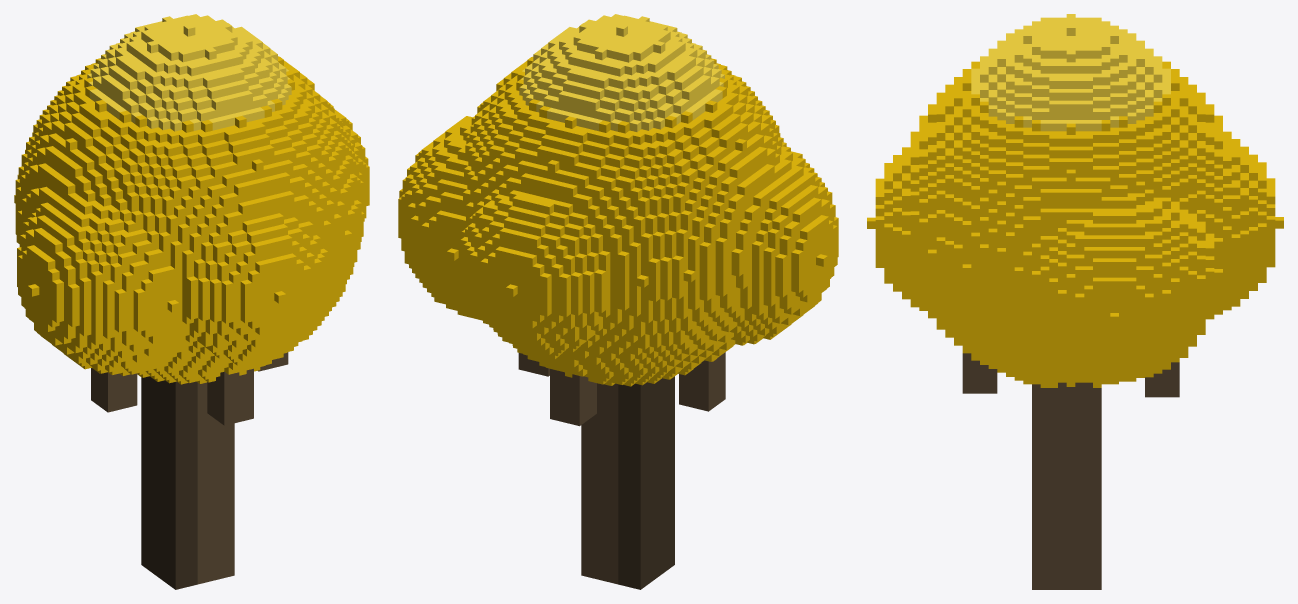
The model's file is arbol_araguaney.obj.
3 renders of one model, left to right at view 1: azimuth 30°, elevation 25°; view 2: azimuth 150°, elevation 25°; view 3: azimuth 270°, elevation 25°, orthographic.
Bounding box in the file's own units: 5 × 7 × 4.8.
